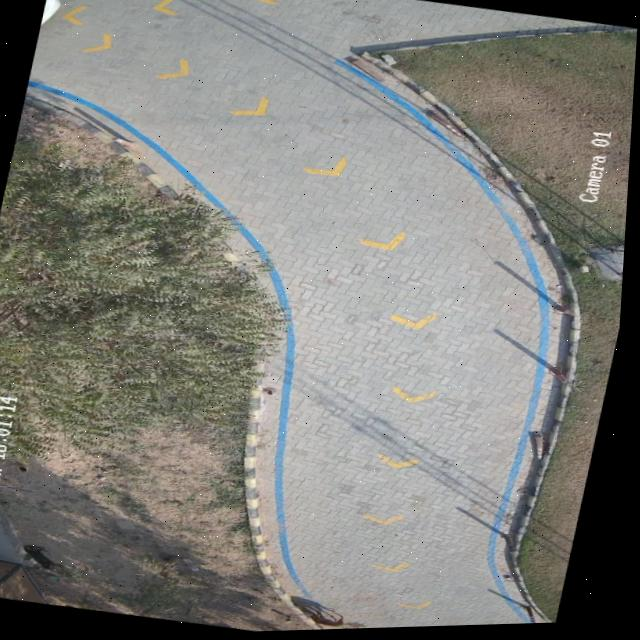car: (43, 0, 61, 23)
